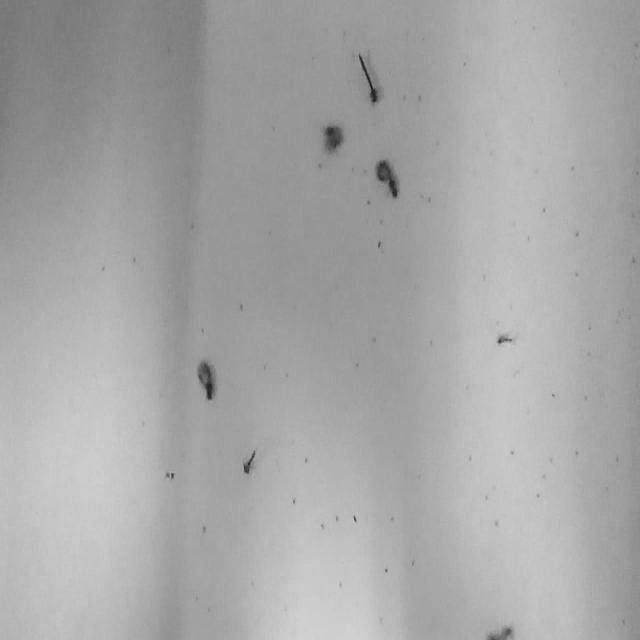larvas: (358, 49, 378, 102), (374, 158, 398, 196), (196, 361, 214, 403), (324, 124, 344, 150), (242, 443, 258, 473), (486, 623, 512, 639), (496, 333, 516, 343)
